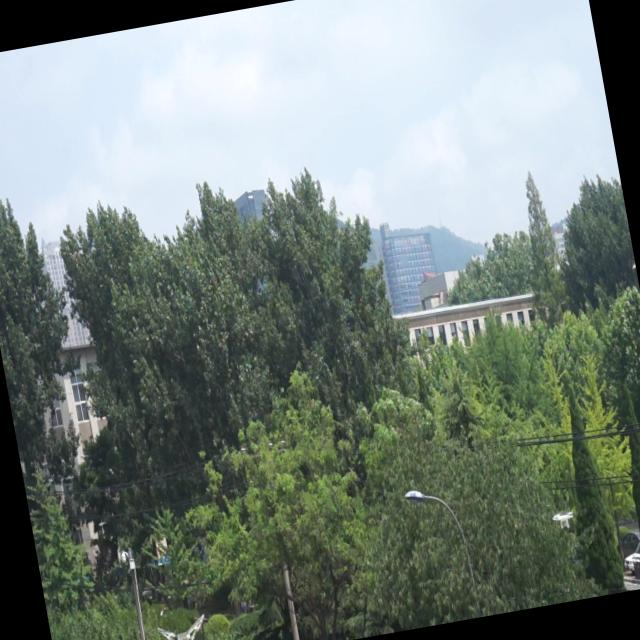drone: (548, 506, 578, 534)
